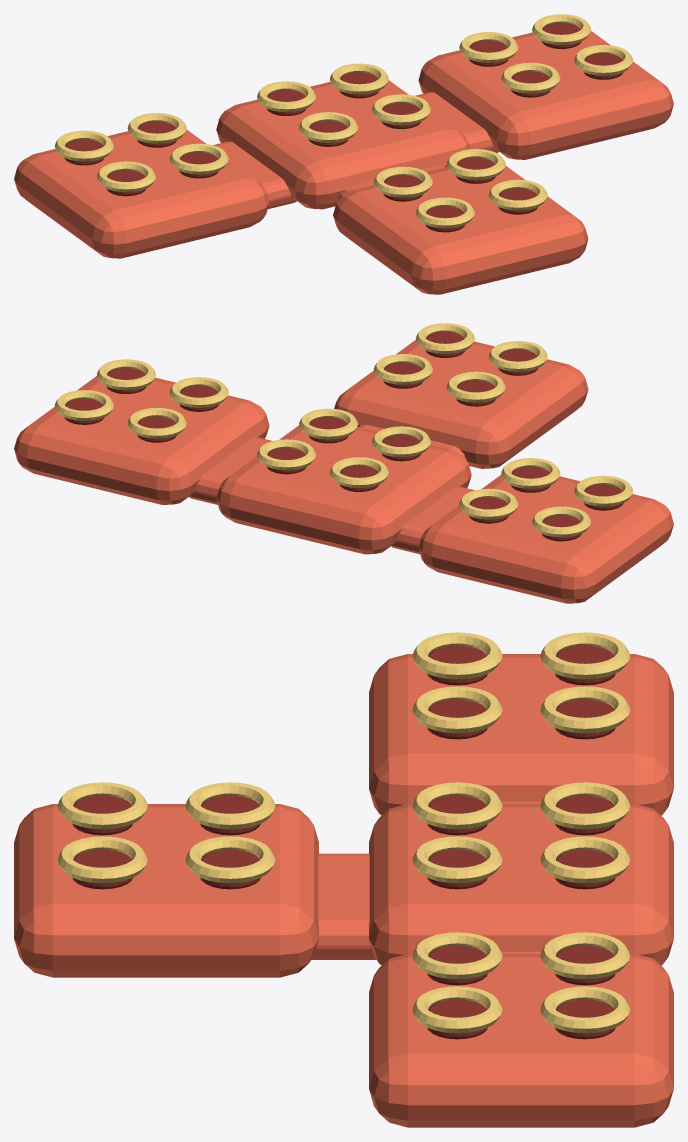
File: PR3D_Container_T.fbx
3 views of the same model, one above another, from view 1: azimuth 30°, elevation 25°; view 2: azimuth 150°, elevation 25°; view 3: azimuth 270°, elevation 25° (orthographic). The views are drawn at different scales.
Parts seen in each view (by area): view 1: Visual_T_Base_01, Visual_T_Base_00, Visual_T_Base_03, Visual_T_Base_02, Visual_T_Bridge_01, Visual_T_Bridge_02, Visual_T_ToppingRim_01_00, Visual_T_ToppingRim_00_00, Visual_T_ToppingRim_01_01, Visual_T_ToppingRim_02_03, Visual_T_ToppingRim_02_01, Visual_T_ToppingRim_00_01 (+26 smaller); view 2: Visual_T_Base_01, Visual_T_Base_02, Visual_T_Base_03, Visual_T_Base_00, Visual_T_Bridge_01, Visual_T_Bridge_02, Visual_T_ToppingRim_02_02, Visual_T_ToppingRim_01_01, Visual_T_ToppingRim_02_03, Visual_T_ToppingRim_03_02, Visual_T_ToppingRim_02_00, Visual_T_ToppingRim_00_03 (+26 smaller); view 3: Visual_T_Base_03, Visual_T_Base_00, Visual_T_Base_01, Visual_T_Base_02, Visual_T_Bridge_00, Visual_T_ToppingRim_00_03, Visual_T_ToppingRim_02_02, Visual_T_ToppingRim_00_01, Visual_T_ToppingRim_02_00, Visual_T_ToppingRim_03_02, Visual_T_ToppingRim_00_02, Visual_T_ToppingRim_02_03 (+25 smaller).
Part boxes in pixels (x1=…): Visual_T_Base_01: x1=14, y1=129, x2=269, y2=258; Visual_T_Base_00: x1=333, y1=165, x2=588, y2=294; Visual_T_Base_03: x1=418, y1=31, x2=673, y2=159; Visual_T_Base_02: x1=216, y1=80, x2=470, y2=209; Visual_T_Bridge_01: x1=213, y1=141, x2=296, y2=208; Visual_T_Bridge_02: x1=415, y1=92, x2=498, y2=152; Visual_T_ToppingRim_01_00: x1=97, y1=161, x2=155, y2=192; Visual_T_ToppingRim_00_00: x1=416, y1=197, x2=474, y2=228; Visual_T_ToppingRim_01_01: x1=54, y1=130, x2=113, y2=161; Visual_T_ToppingRim_02_03: x1=330, y1=63, x2=388, y2=94; Visual_T_ToppingRim_02_01: x1=257, y1=81, x2=315, y2=112; Visual_T_ToppingRim_00_01: x1=373, y1=166, x2=432, y2=197; Visual_T_Base_01: x1=418, y1=474, x2=673, y2=603; Visual_T_Base_02: x1=216, y1=425, x2=471, y2=554; Visual_T_Base_03: x1=14, y1=376, x2=269, y2=504; Visual_T_Base_00: x1=334, y1=340, x2=588, y2=468; Visual_T_Bridge_01: x1=391, y1=486, x2=474, y2=554; Visual_T_Bridge_02: x1=189, y1=437, x2=271, y2=504; Visual_T_ToppingRim_02_02: x1=299, y1=408, x2=357, y2=439; Visual_T_ToppingRim_01_01: x1=532, y1=506, x2=590, y2=537; Visual_T_ToppingRim_02_03: x1=257, y1=439, x2=315, y2=470; Visual_T_ToppingRim_03_02: x1=96, y1=359, x2=155, y2=390; Visual_T_ToppingRim_02_00: x1=372, y1=426, x2=430, y2=457; Visual_T_ToppingRim_00_03: x1=373, y1=354, x2=432, y2=384; Visual_T_Base_03: x1=369, y1=954, x2=673, y2=1127; Visual_T_Base_00: x1=14, y1=804, x2=318, y2=977; Visual_T_Base_01: x1=369, y1=654, x2=673, y2=815; Visual_T_Base_02: x1=369, y1=804, x2=673, y2=965; Visual_T_Bridge_00: x1=311, y1=853, x2=376, y2=959; Visual_T_ToppingRim_00_03: x1=185, y1=836, x2=275, y2=883; Visual_T_ToppingRim_02_02: x1=412, y1=836, x2=502, y2=883; Visual_T_ToppingRim_00_01: x1=185, y1=782, x2=275, y2=829; Visual_T_ToppingRim_02_00: x1=412, y1=782, x2=502, y2=829; Visual_T_ToppingRim_03_02: x1=412, y1=986, x2=502, y2=1033; Visual_T_ToppingRim_00_02: x1=57, y1=836, x2=147, y2=883; Visual_T_ToppingRim_02_03: x1=540, y1=836, x2=630, y2=883.
Size of the model in its own units: 2.86 by 0.3091 by 1.86.
